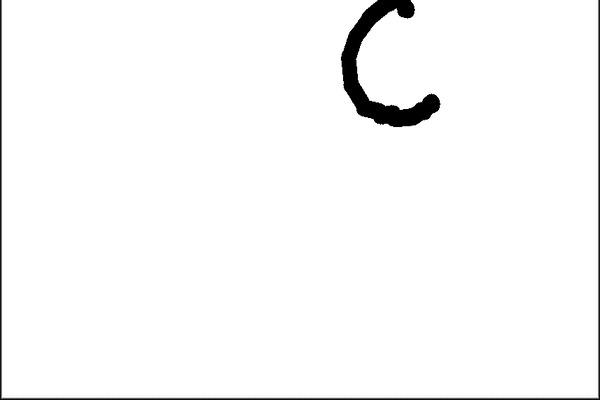C: (336, 0, 443, 128)
